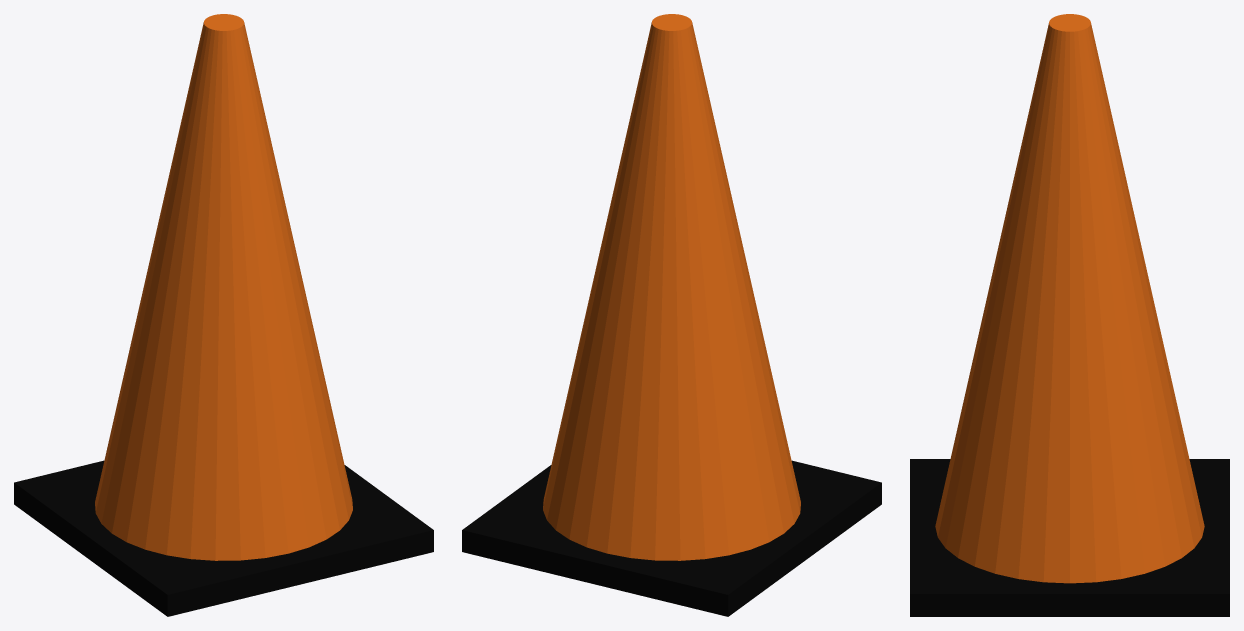
File: traffic_cone.glb
3 renders of one model, left to right at view 1: azimuth 30°, elevation 25°; view 2: azimuth 150°, elevation 25°; view 3: azimuth 270°, elevation 25°, orthographic. The views are drawn at different scales.
Parts seen in each view (by area): view 1: traffic_cone; view 2: traffic_cone; view 3: traffic_cone.
Boxes of the visible parts, x1,y1,x2,y2 form: traffic_cone: (14,14,433,616); traffic_cone: (462,14,881,616); traffic_cone: (910,14,1229,616).
Bounding box in the file's own units: 0.38 × 0.69 × 0.38.
